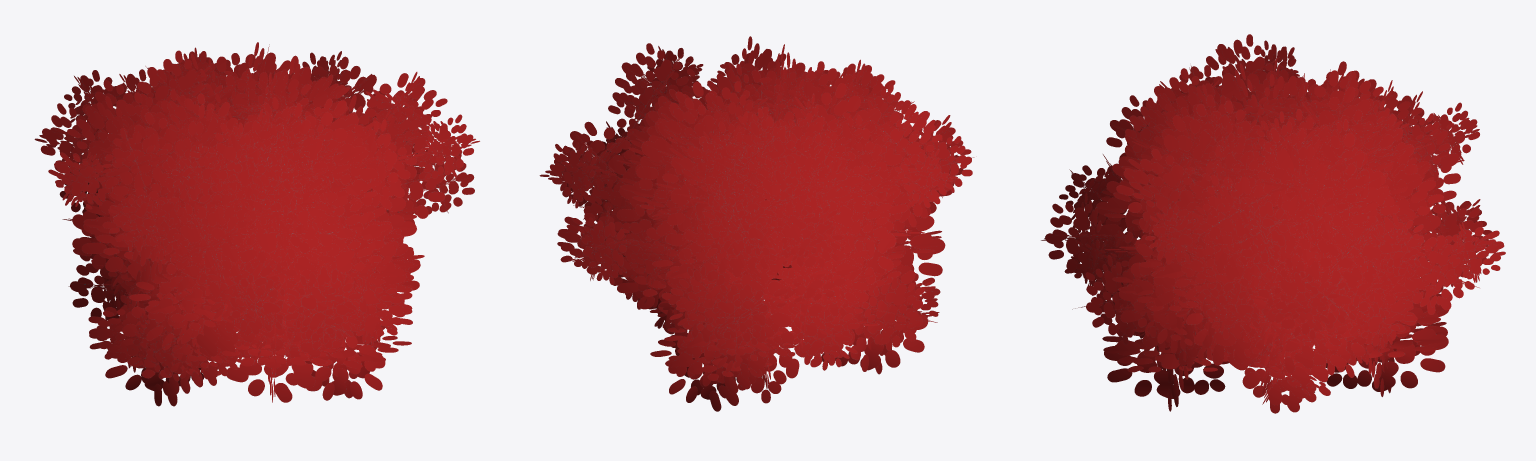
Rendered from bush_common.glb.
The picture shows the model from 3 angles, left to right: view 1: azimuth 30°, elevation 25°; view 2: azimuth 150°, elevation 25°; view 3: azimuth 270°, elevation 25°; orthographic projection. The views are drawn at different scales.
Visible parts, largest first — view 1: Bush_Common; view 2: Bush_Common; view 3: Bush_Common.
Part boxes in pixels (x1,y1,x2,y2): Bush_Common: (34, 42, 479, 406); Bush_Common: (539, 36, 974, 411); Bush_Common: (1041, 34, 1505, 413).
Bounding box in the file's own units: 1.91 × 1.58 × 1.97.
Materials: 1 (1 with a texture image).
